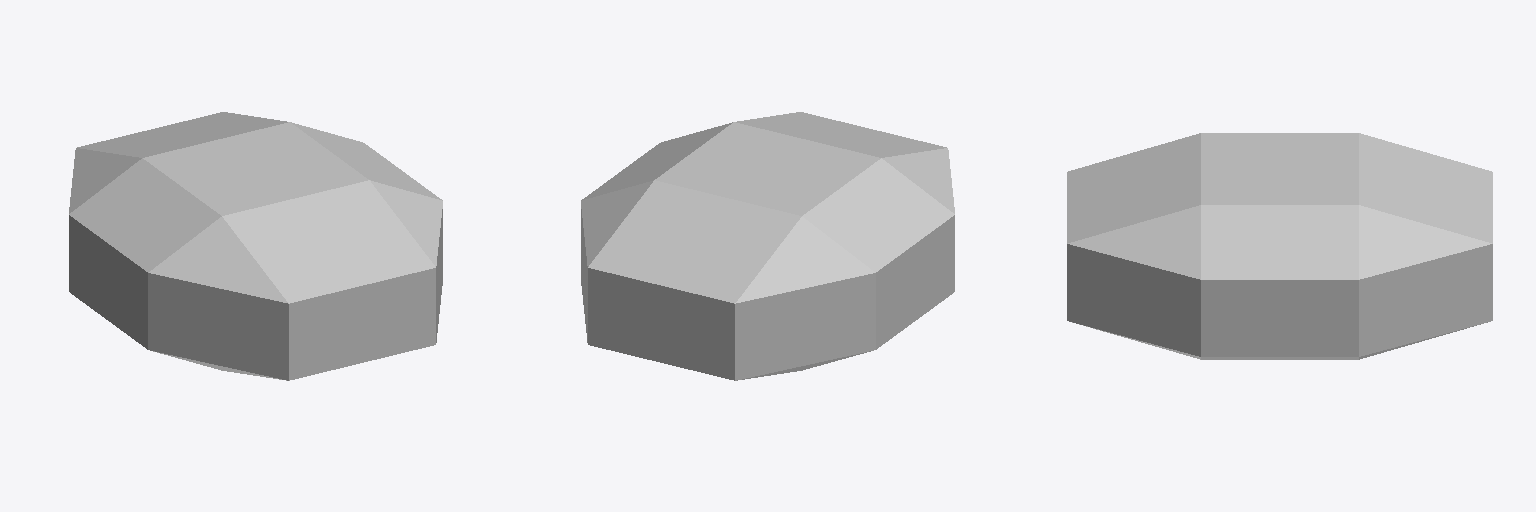
File: HealthPack.obj
The picture shows the model from 3 angles: view 1: azimuth 30°, elevation 25°; view 2: azimuth 150°, elevation 25°; view 3: azimuth 270°, elevation 25°; orthographic projection.
Visible parts, largest first — view 1: __unnamed, _ground_point; view 2: __unnamed, _ground_point; view 3: __unnamed, _ground_point.
Boxes of the visible parts, <box> form: __unnamed: <box>69,112,442,380</box>; _ground_point: <box>69,159,442,380</box>; __unnamed: <box>581,112,954,380</box>; _ground_point: <box>735,215,953,380</box>; __unnamed: <box>1067,133,1492,359</box>; _ground_point: <box>1067,244,1358,359</box>.
Size of the model in its own units: 16 by 9 by 20.